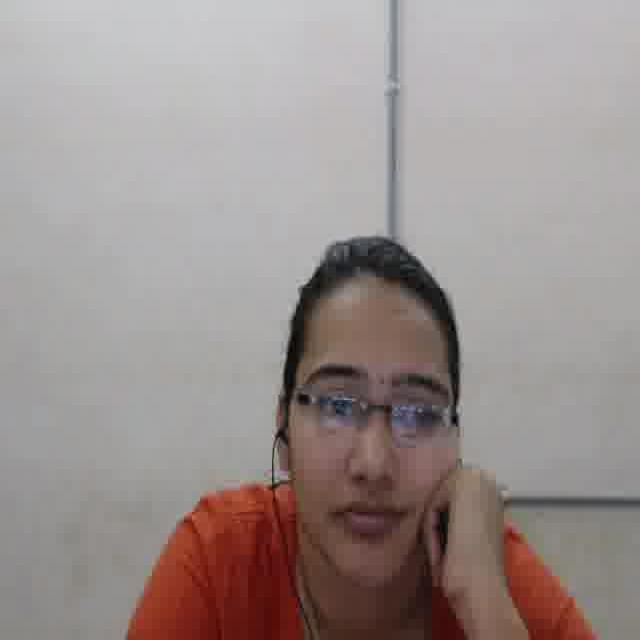Boredom: (293, 302, 452, 578)
